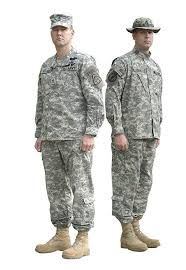uniform: (44, 50, 96, 243), (107, 50, 164, 223)
